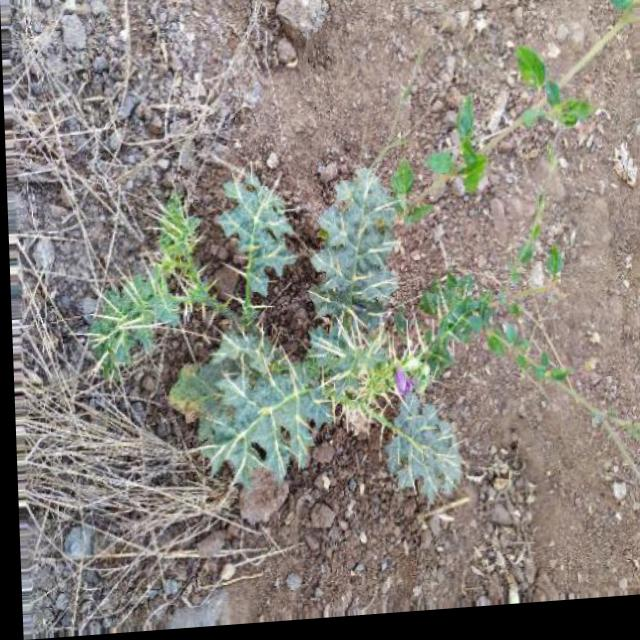weed: (67, 82, 580, 542)
